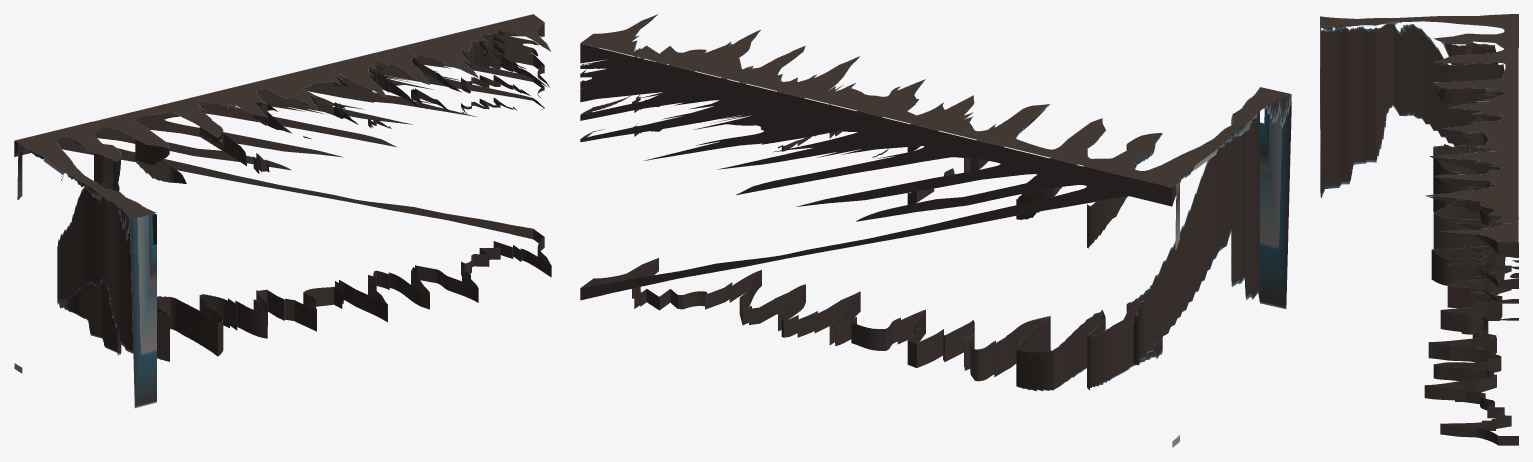
The picture shows the model from 3 angles, left to right: view 1: azimuth 30°, elevation 25°; view 2: azimuth 150°, elevation 25°; view 3: azimuth 270°, elevation 25°; orthographic projection. The views are drawn at different scales.
Visible parts, largest first — view 1: Shape1; view 2: Shape1; view 3: Shape1.
Boxes of the visible parts, x1=… form: Shape1: x1=14, y1=14, x2=551, y2=408; Shape1: x1=580, y1=14, x2=1291, y2=447; Shape1: x1=1320, y1=14, x2=1518, y2=445.
Bounding box in the file's own units: 59.51 × 25 × 21.91.
